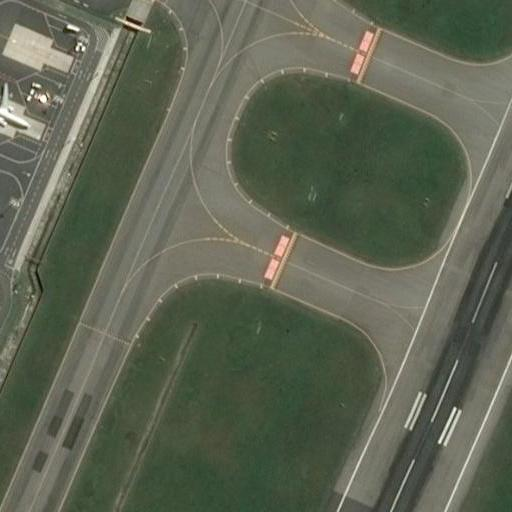Aircraft: (0, 78, 29, 136)
